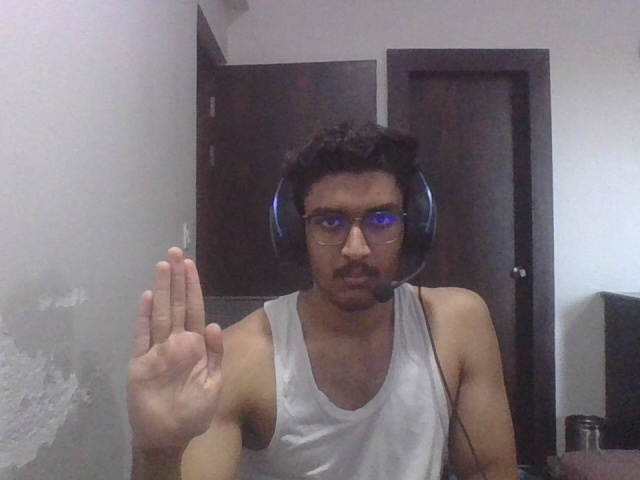Hello: (117, 244, 241, 451)
